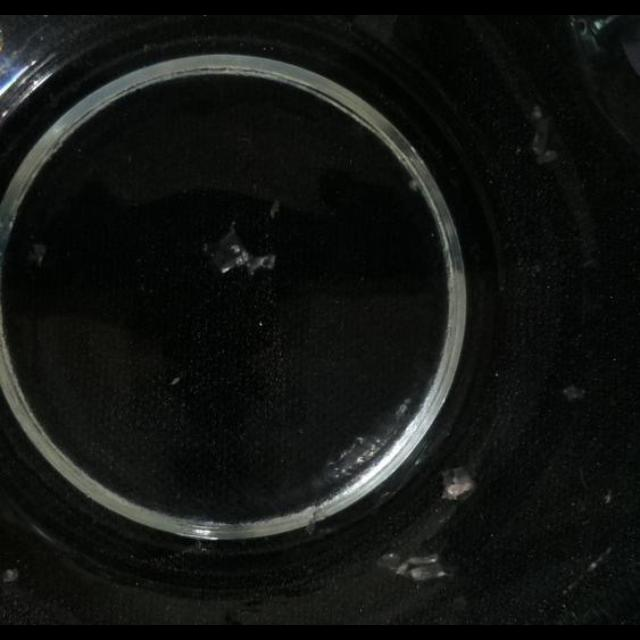Fibre: (207, 224, 277, 278), (380, 548, 450, 582), (528, 108, 558, 164), (441, 466, 477, 499), (584, 550, 608, 574), (306, 506, 326, 534), (28, 242, 46, 268), (562, 384, 584, 402), (269, 199, 281, 219), (530, 105, 542, 121), (406, 178, 419, 192), (396, 402, 409, 416), (602, 491, 612, 505)
microbeads: (2, 568, 18, 584), (170, 376, 180, 386)
